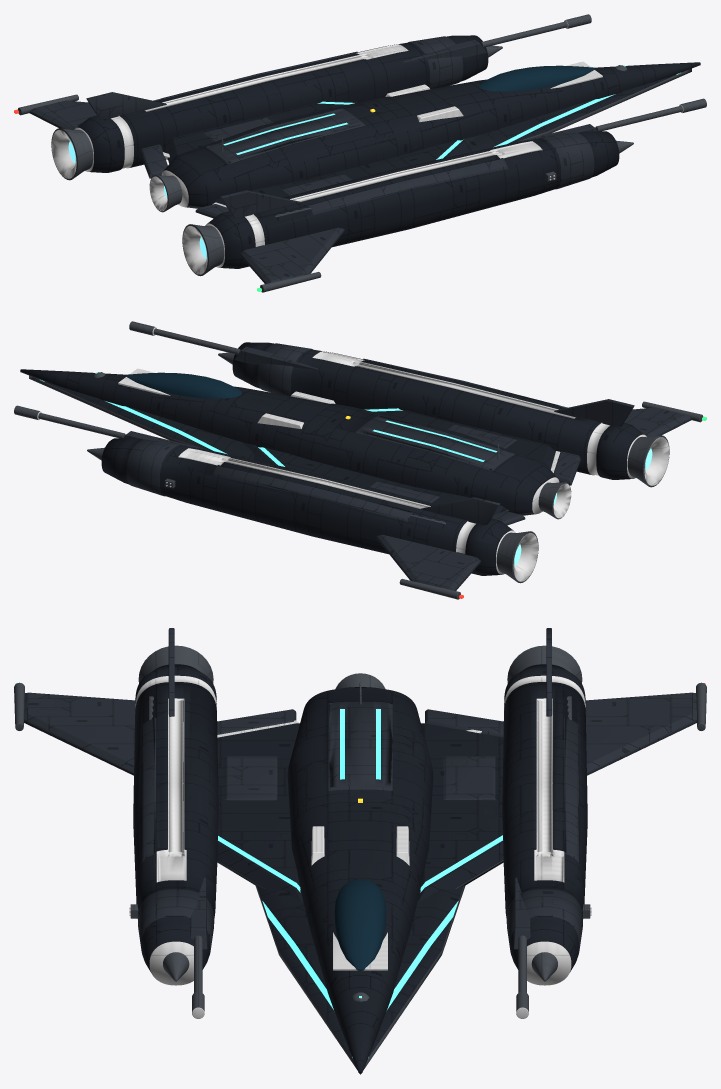
The model's file is wasp_production_v1_lod1.glb.
3 views of the same model, one above another, from view 1: azimuth 30°, elevation 25°; view 2: azimuth 150°, elevation 25°; view 3: azimuth 270°, elevation 25° (orthographic). The views are drawn at different scales.
Visible parts, largest first — view 1: LOD0_Hull, LOD0_Armor, LOD0_MechanicalDark, LOD0_Mechanical, LOD0_CANOPY, LOD0_HOOK_SECONDARY_FIN_Armor, LOD0_Lights_Cyan, LOD0_HOOK_ARMOR_FLAP_Armor; view 2: LOD0_Hull, LOD0_Armor, LOD0_MechanicalDark, LOD0_Mechanical, LOD0_CANOPY, LOD0_Lights_Cyan, LOD0_HOOK_SECONDARY_FIN_Armor; view 3: LOD0_Hull, LOD0_Armor, LOD0_MechanicalDark, LOD0_Mechanical, LOD0_CANOPY, LOD0_Lights_Cyan, LOD0_HOOK_ARMOR_FLAP_Armor.
Part boxes in pixels (bbox=[...]): LOD0_Hull: bbox=[76, 35, 700, 268]; LOD0_Armor: bbox=[29, 36, 597, 283]; LOD0_MechanicalDark: bbox=[51, 20, 683, 274]; LOD0_Mechanical: bbox=[17, 14, 706, 292]; LOD0_CANOPY: bbox=[479, 65, 595, 91]; LOD0_HOOK_SECONDARY_FIN_Armor: bbox=[86, 92, 166, 119]; LOD0_Lights_Cyan: bbox=[223, 72, 680, 159]; LOD0_HOOK_ARMOR_FLAP_Armor: bbox=[140, 144, 167, 178]; LOD0_Hull: bbox=[20, 342, 644, 575]; LOD0_Armor: bbox=[123, 343, 691, 590]; LOD0_MechanicalDark: bbox=[37, 327, 669, 581]; LOD0_Mechanical: bbox=[14, 321, 703, 599]; LOD0_CANOPY: bbox=[125, 372, 241, 398]; LOD0_Lights_Cyan: bbox=[40, 379, 497, 466]; LOD0_HOOK_SECONDARY_FIN_Armor: bbox=[421, 497, 500, 525]; LOD0_Hull: bbox=[133, 664, 587, 1073]; LOD0_Armor: bbox=[24, 628, 696, 956]; LOD0_MechanicalDark: bbox=[129, 675, 591, 1018]; LOD0_Mechanical: bbox=[14, 645, 706, 1074]; LOD0_CANOPY: bbox=[334, 879, 386, 970]; LOD0_Lights_Cyan: bbox=[218, 709, 502, 1057]; LOD0_HOOK_ARMOR_FLAP_Armor: bbox=[425, 709, 503, 737].
Size of what is drawn, in the model's own units: 21.62 by 2.65 by 16.16.
10 materials, 4 textured.
